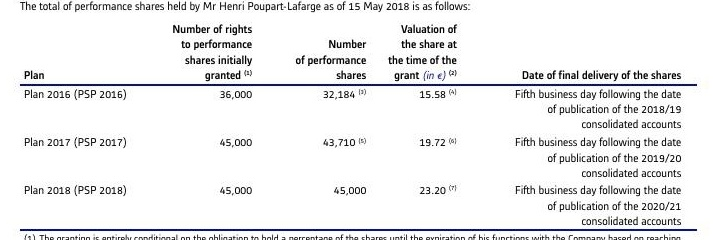table: (0, 0, 713, 240)
